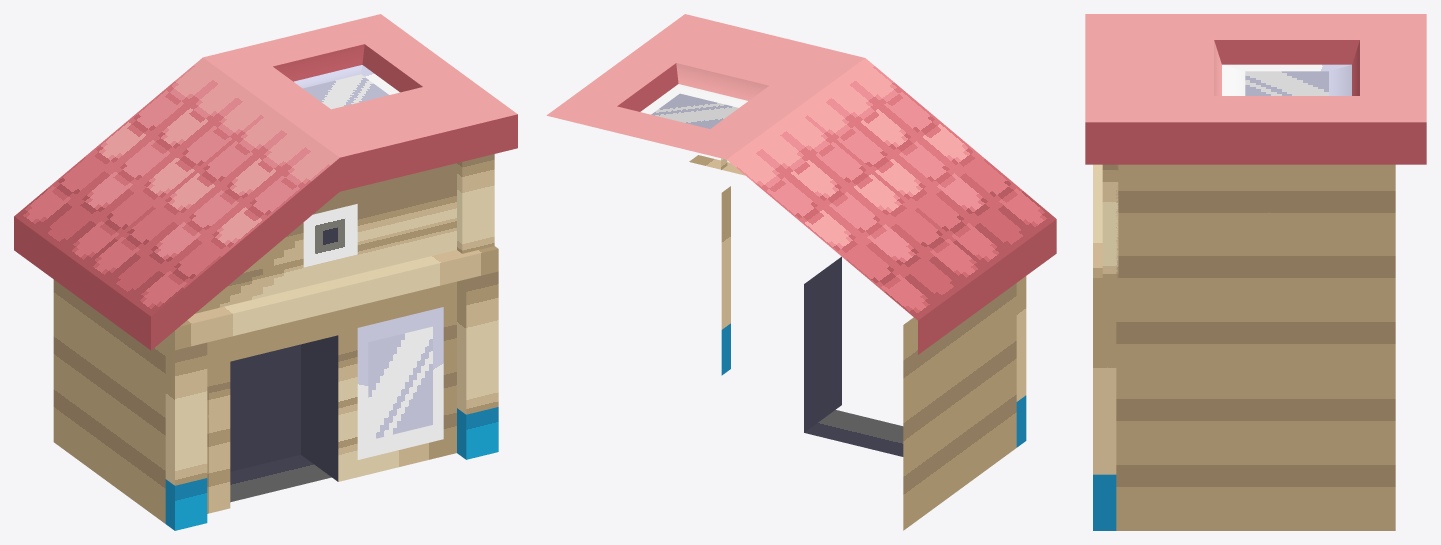
The picture shows the model from 3 angles, left to right: view 1: azimuth 30°, elevation 25°; view 2: azimuth 150°, elevation 25°; view 3: azimuth 270°, elevation 25°; orthographic projection. The views are drawn at different scales.
Parts seen in each view (by area): view 1: yo_h01; view 2: yo_h01; view 3: yo_h01.
Part boxes in pixels (x1,y1,x2,y2): yo_h01: (14,14,517,530); yo_h01: (546,14,1056,530); yo_h01: (1085,14,1426,530).
Bounding box in the file's own units: 4.25 × 3.72 × 2.75.
Materials: 2 (2 with a texture image).
